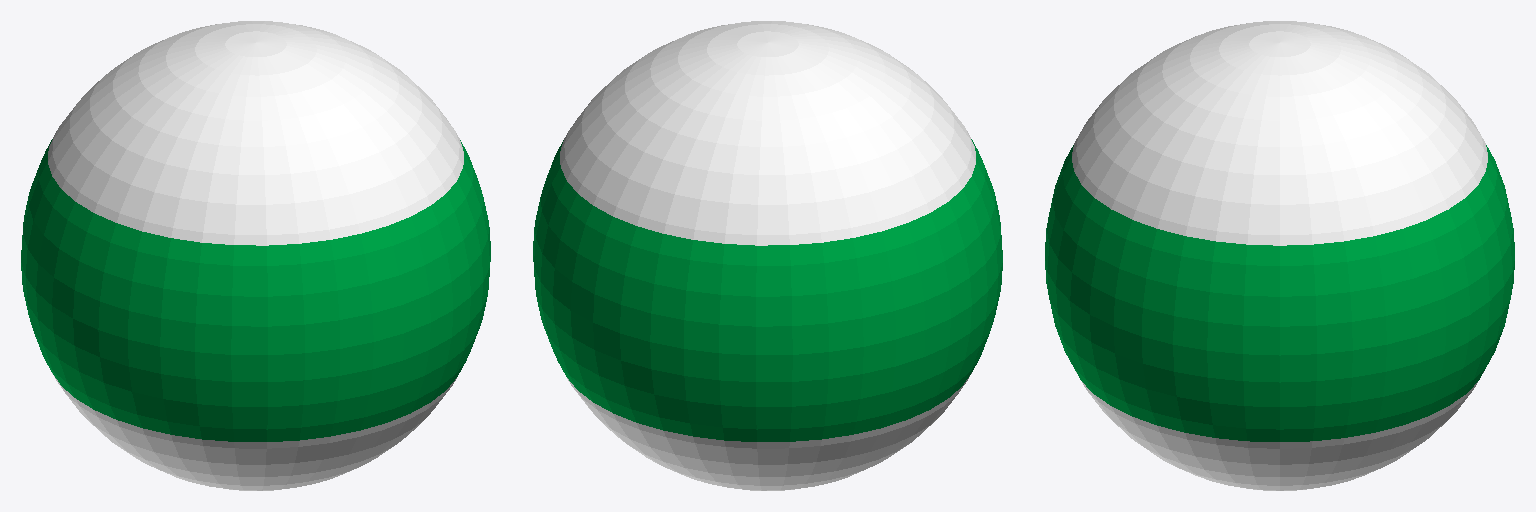
The picture shows the model from 3 angles: view 1: azimuth 30°, elevation 25°; view 2: azimuth 150°, elevation 25°; view 3: azimuth 270°, elevation 25°; orthographic projection.
Parts seen in each view (by area): view 1: 球_球.001; view 2: 球_球.001; view 3: 球_球.001.
Part boxes in pixels (x1,y1,x2,y2): 球_球.001: (21, 21, 490, 490); 球_球.001: (533, 21, 1002, 490); 球_球.001: (1045, 21, 1514, 490).
Size of the model in its own units: 2 by 2 by 2.
1 materials, 1 textured.